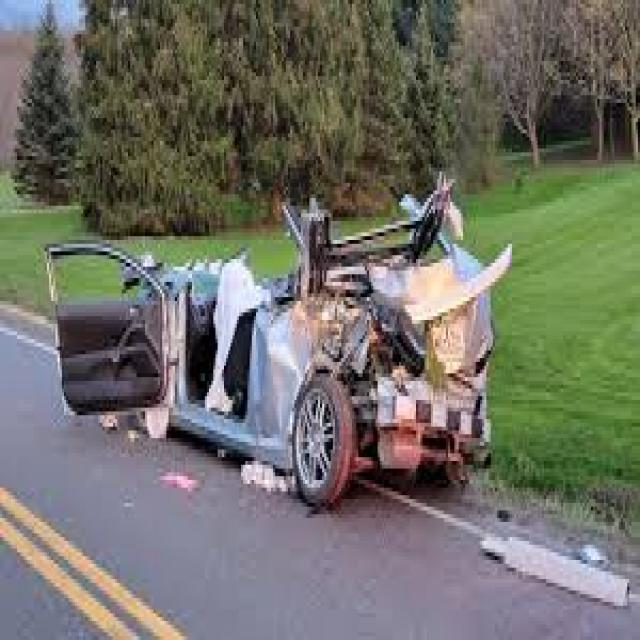accident: (78, 220, 510, 511)
